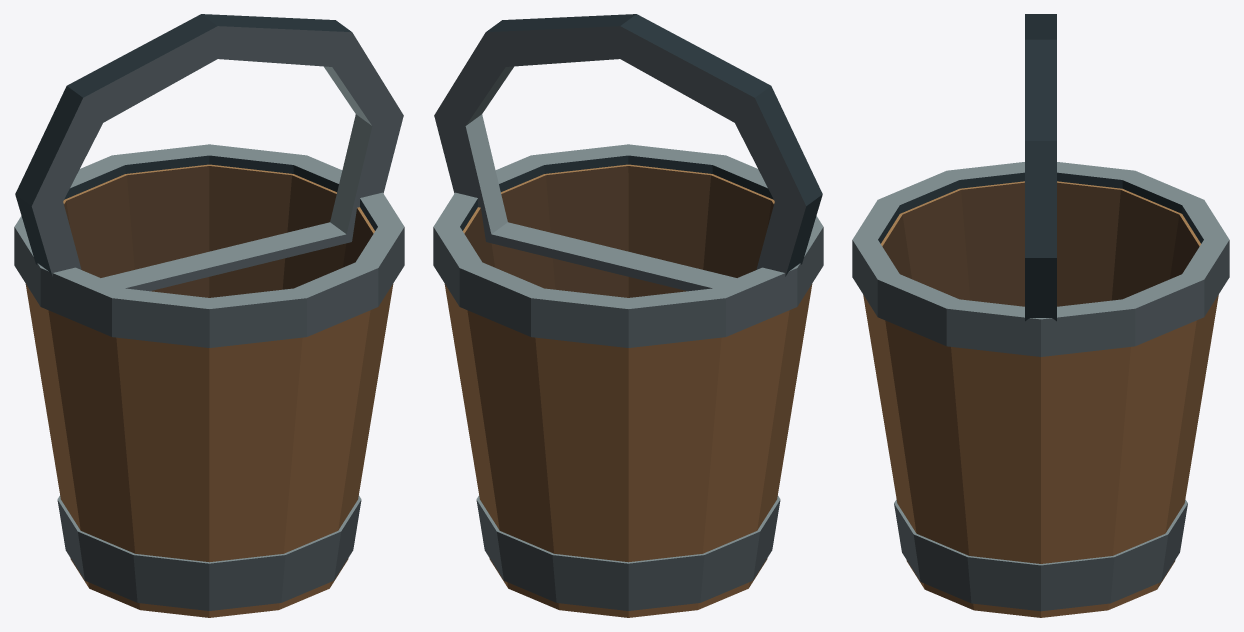
Rendered from bucket.fbx.
3 views of the same model, side by side, from view 1: azimuth 30°, elevation 25°; view 2: azimuth 150°, elevation 25°; view 3: azimuth 270°, elevation 25° (orthographic). The views are drawn at different scales.
Visible parts, largest first — view 1: bucket; view 2: bucket; view 3: bucket.
Part boxes in pixels (x1=…): bucket: x1=14, y1=14, x2=404, y2=617; bucket: x1=433, y1=14, x2=823, y2=617; bucket: x1=852, y1=14, x2=1229, y2=617.
Size of the model in its own units: 1.08 by 1.5 by 0.9803.
Materials: 1 (1 with a texture image).
